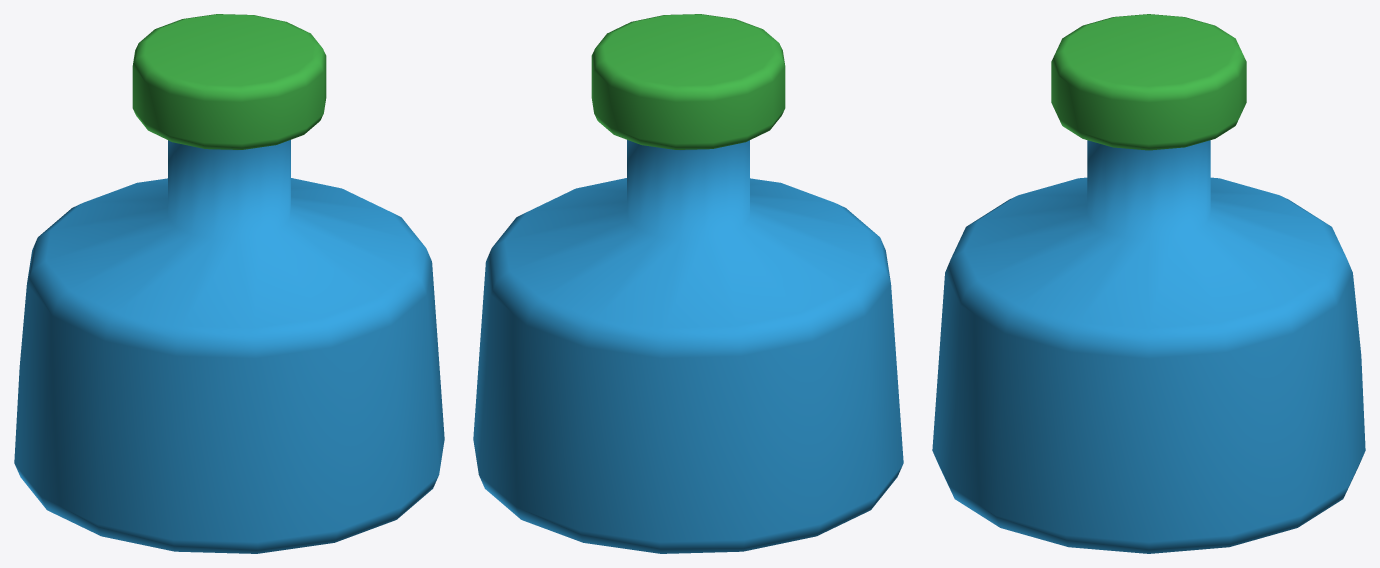
File: TwoMPotionN3.fbx
3 renders of one model, left to right at view 1: azimuth 30°, elevation 25°; view 2: azimuth 150°, elevation 25°; view 3: azimuth 270°, elevation 25°, orthographic.
Visible parts, largest first — view 1: PotionN3; view 2: PotionN3; view 3: PotionN3.
Boxes of the visible parts, x1=… form: PotionN3: x1=14, y1=14, x2=444, y2=553; PotionN3: x1=473, y1=14, x2=903, y2=553; PotionN3: x1=932, y1=14, x2=1365, y2=553.
Size of the model in its own units: 0.1342 by 0.1435 by 0.1342.
